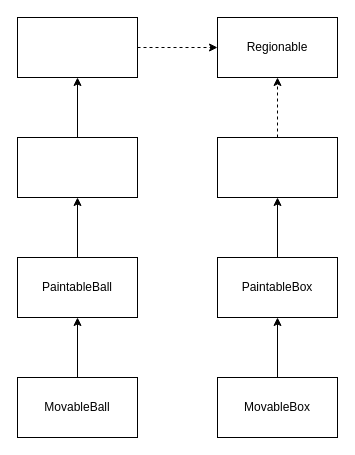
The diagram is 355 pixels wide and 455 high, and some of its shapes have lost their labels. Here are the shapes that lost their labels. From the top down, the centre of each, then its label:
At (x=77, y=47): "Region".
At (x=77, y=167): "Ball".
At (x=277, y=167): "Box".
